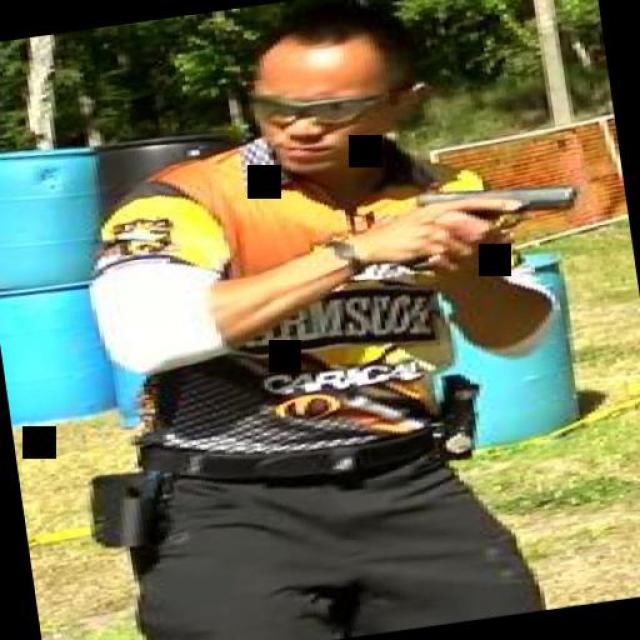gun: (395, 168, 584, 270)
